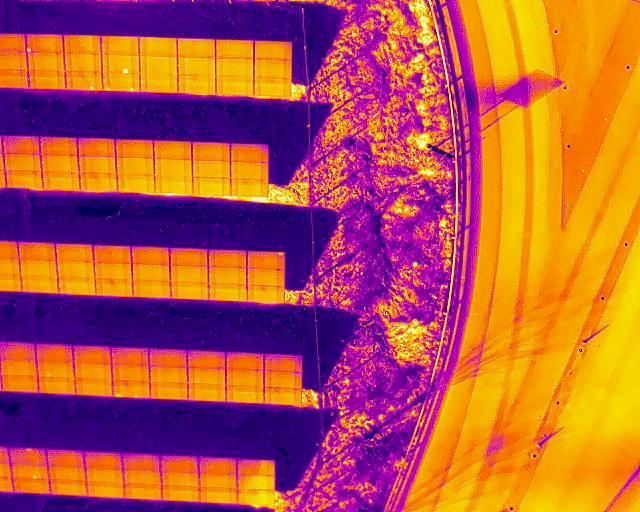Cell: (102, 54, 140, 74), (65, 72, 102, 91), (26, 34, 64, 52), (247, 251, 285, 269), (11, 466, 49, 480), (36, 362, 74, 376)
Cell-Multi: (102, 75, 140, 92), (113, 381, 150, 398)
No-Anomaly: (139, 37, 177, 57), (254, 41, 292, 61), (178, 38, 216, 58), (216, 39, 254, 58), (78, 156, 116, 175), (192, 142, 229, 161), (153, 141, 192, 159), (116, 158, 155, 176), (209, 250, 248, 268), (101, 36, 139, 54), (140, 58, 178, 76), (216, 77, 254, 95), (30, 70, 66, 89), (40, 137, 78, 155), (94, 245, 132, 263), (188, 383, 226, 401), (154, 159, 192, 177), (230, 145, 268, 163), (192, 160, 230, 178), (65, 54, 102, 72), (178, 76, 215, 94), (65, 35, 102, 53), (5, 171, 42, 189), (215, 59, 253, 76), (170, 266, 208, 283), (35, 346, 73, 363), (95, 279, 133, 296), (247, 286, 285, 303), (131, 246, 169, 263), (170, 249, 208, 266), (116, 141, 154, 158), (0, 376, 38, 393), (2, 136, 39, 153), (28, 53, 65, 70), (178, 59, 215, 76), (254, 79, 291, 96), (86, 453, 123, 470), (78, 139, 115, 156), (254, 61, 291, 78), (56, 244, 93, 261), (20, 243, 57, 260), (41, 155, 78, 172), (264, 356, 301, 373), (247, 269, 284, 286), (43, 173, 79, 190), (231, 179, 267, 196), (22, 276, 58, 293), (200, 458, 238, 474), (9, 450, 47, 466), (149, 350, 187, 366), (209, 284, 247, 300), (74, 348, 112, 364), (57, 261, 95, 277), (75, 379, 113, 395), (79, 175, 117, 191), (226, 354, 264, 370), (0, 344, 35, 361), (140, 76, 177, 92), (58, 278, 95, 294), (133, 264, 170, 280), (75, 364, 112, 380), (264, 389, 301, 405), (95, 263, 132, 279), (21, 260, 58, 276), (150, 381, 187, 397), (171, 283, 208, 299), (112, 349, 149, 365), (38, 377, 75, 393), (236, 475, 275, 490), (193, 179, 229, 195), (4, 154, 40, 170), (47, 451, 85, 466), (200, 488, 238, 503), (161, 456, 199, 471), (49, 467, 87, 482), (231, 163, 269, 178), (188, 368, 226, 383), (208, 268, 246, 283), (117, 177, 155, 192), (155, 178, 193, 193), (226, 370, 264, 385), (226, 386, 264, 401), (162, 486, 199, 501), (238, 459, 275, 474), (188, 353, 225, 368), (264, 373, 301, 388), (133, 281, 170, 296), (112, 365, 149, 380), (150, 367, 187, 382), (124, 456, 160, 471), (87, 469, 125, 483), (88, 484, 126, 498), (162, 472, 200, 486), (0, 69, 29, 87), (12, 480, 52, 493), (125, 471, 162, 485), (0, 362, 37, 376), (124, 486, 162, 499), (0, 52, 27, 70), (238, 491, 274, 504), (52, 482, 88, 495), (0, 35, 26, 52), (201, 475, 237, 487)
